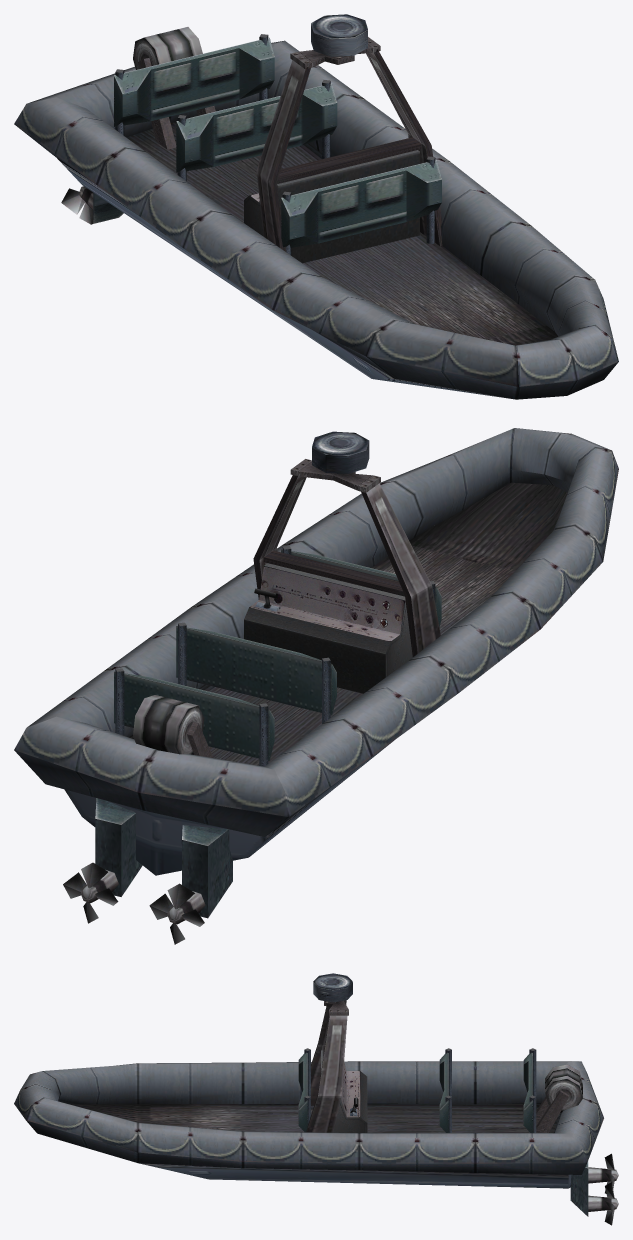
Rendered from Rhib.glb.
3 renders of one model, top to bottom at view 1: azimuth 30°, elevation 25°; view 2: azimuth 150°, elevation 25°; view 3: azimuth 270°, elevation 25°, orthographic. The views are drawn at different scales.
Parts seen in each view (by area): view 1: _Rhib; view 2: _Rhib; view 3: _Rhib.
Boxes of the visible parts, x1=… form: _Rhib: x1=14, y1=14, x2=618, y2=399; _Rhib: x1=14, y1=428, x2=618, y2=944; _Rhib: x1=14, y1=973, x2=618, y2=1225.
Bounding box in the file's own units: 4.18 × 4.92 × 11.79.
1 material, 1 textured.
